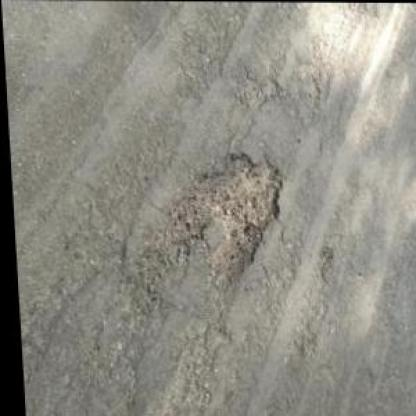pothole: (142, 148, 288, 288)
